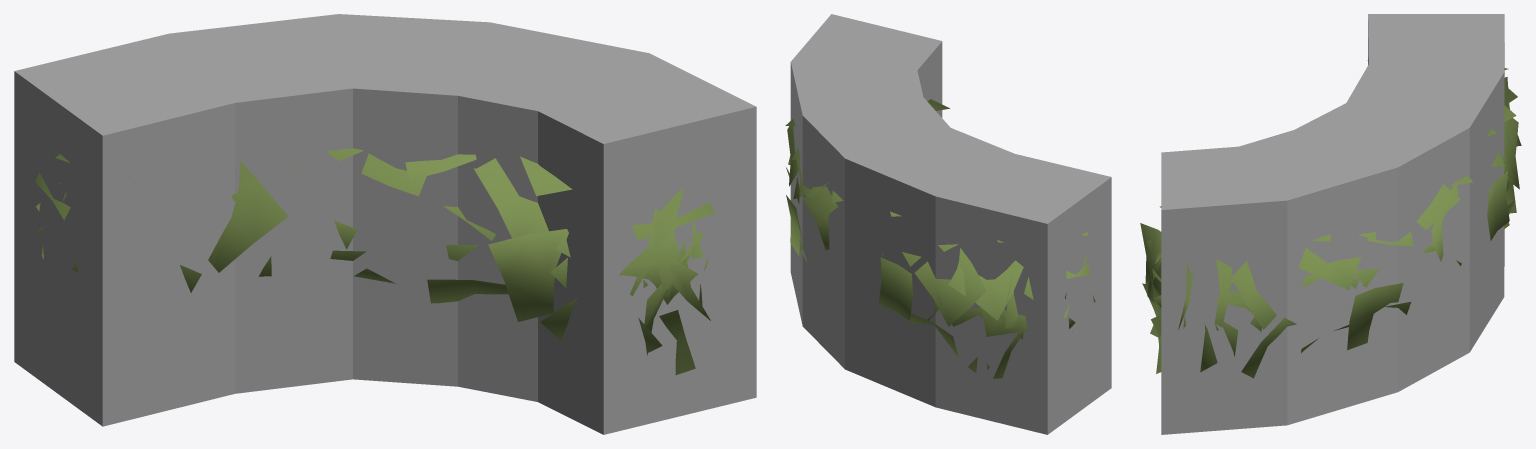
File: BushCurve01.fbx
3 renders of one model, left to right at view 1: azimuth 30°, elevation 25°; view 2: azimuth 150°, elevation 25°; view 3: azimuth 270°, elevation 25°, orthographic. The views are drawn at different scales.
Visible parts, largest first — view 1: BushCurveColider, BushCurve; view 2: BushCurveColider, BushCurve; view 3: BushCurveColider, BushCurve.
Boxes of the visible parts, x1,y1,x2,y2 form: BushCurveColider: (14,14,756,434); BushCurve: (35,148,714,374); BushCurveColider: (790,14,1111,434); BushCurve: (785,99,1095,378); BushCurveColider: (1161,14,1504,434); BushCurve: (1140,60,1521,378).
Size of the model in its own units: 8.01 by 4.09 by 6.28.
